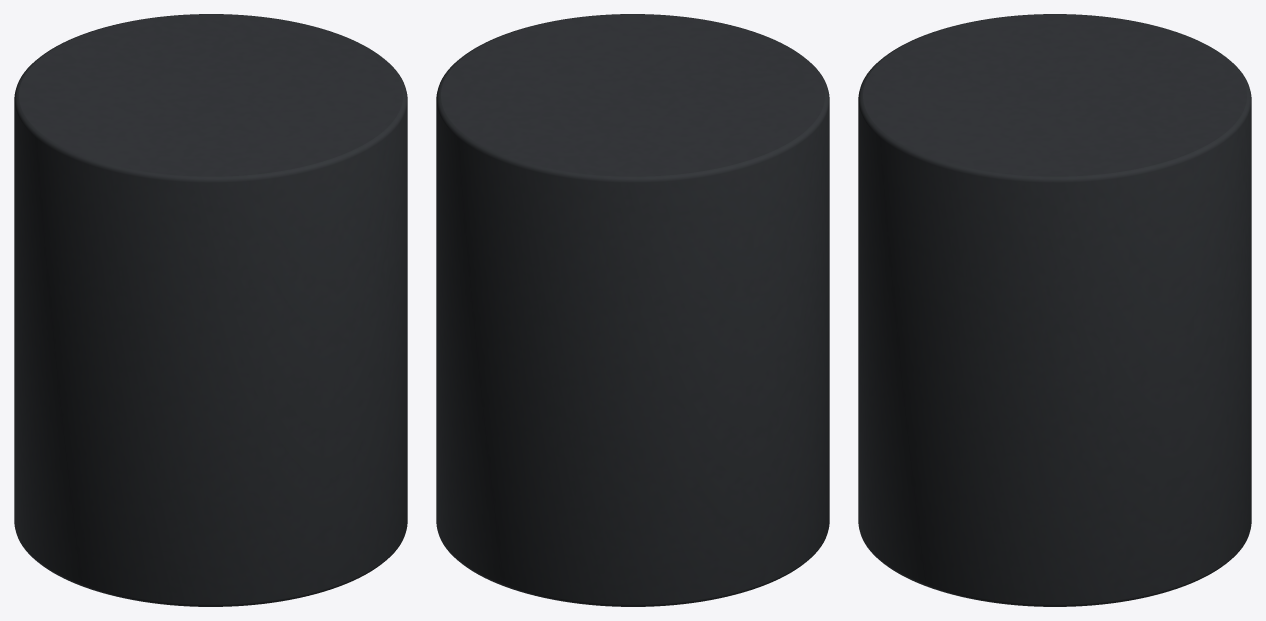
File: caster_link_servo_black.obj
3 renders of one model, left to right at view 1: azimuth 30°, elevation 25°; view 2: azimuth 150°, elevation 25°; view 3: azimuth 270°, elevation 25°, orthographic.
Visible parts, largest first — view 1: caster_link__front_hub; view 2: caster_link__front_hub; view 3: caster_link__front_hub.
Part boxes in pixels (<box>): caster_link__front_hub: <box>14,14,407,606</box>; caster_link__front_hub: <box>436,14,829,606</box>; caster_link__front_hub: <box>858,14,1251,606</box>.
Size of the model in its own units: 0.034 by 0.041 by 0.034.
1 material, 1 textured.
